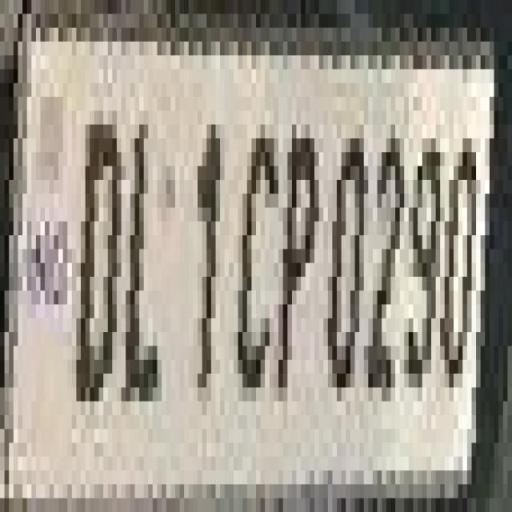number plate: (9, 28, 512, 484)
